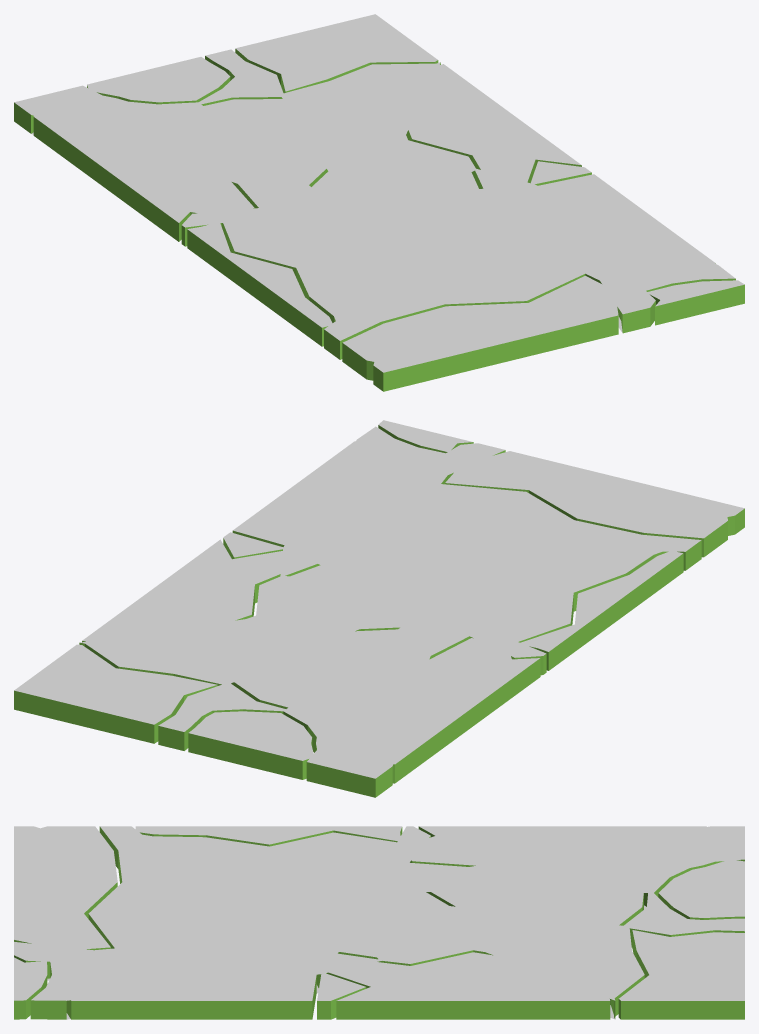
The model's file is Nivel 6 final.fbx.
3 renders of one model, top to bottom at view 1: azimuth 30°, elevation 25°; view 2: azimuth 150°, elevation 25°; view 3: azimuth 270°, elevation 25°, orthographic.
Parts seen in each view (by area): view 1: Plane.001, Plane, Plane.006, Plane.012, Plane.003, Plane.014, Plane.010, Plane.005, Plane.008, Plane.009, Plane.011, Plane.002 (+1 smaller); view 2: Plane.001, Plane, Plane.003, Plane.006, Plane.012, Plane.009, Plane.005, Plane.010, Plane.014, Plane.011, Plane.002, Plane.008 (+1 smaller); view 3: Plane.001, Plane.012, Plane.014, Plane, Plane.003, Plane.010, Plane.011, Plane.006, Plane.009, Plane.005, Plane.008, Plane.002 (+2 smaller).
Part boxes in pixels (bbox=[...]): Plane.001: bbox=[14, 49, 735, 359]; Plane: bbox=[342, 275, 618, 391]; Plane.006: bbox=[33, 101, 254, 241]; Plane.012: bbox=[362, 64, 581, 183]; Plane.003: bbox=[235, 14, 438, 93]; Plane.014: bbox=[523, 174, 715, 284]; Plane.010: bbox=[183, 95, 371, 193]; Plane.005: bbox=[187, 222, 332, 346]; Plane.008: bbox=[313, 227, 438, 300]; Plane.009: bbox=[87, 57, 230, 104]; Plane.011: bbox=[344, 163, 511, 253]; Plane.002: bbox=[646, 280, 744, 325]; Plane.001: bbox=[79, 426, 701, 797]; Plane: bbox=[445, 451, 744, 557]; Plane.003: bbox=[14, 644, 217, 743]; Plane.006: bbox=[338, 638, 540, 783]; Plane.012: bbox=[82, 539, 290, 657]; Plane.009: bbox=[188, 711, 314, 779]; Plane.005: bbox=[517, 551, 683, 670]; Plane.010: bbox=[210, 629, 439, 708]; Plane.014: bbox=[232, 441, 441, 546]; Plane.011: bbox=[291, 534, 481, 581]; Plane.002: bbox=[378, 420, 473, 453]; Plane.008: bbox=[494, 526, 592, 598]; Plane.001: bbox=[14, 826, 744, 1019]; Plane.012: bbox=[327, 952, 610, 1019]; Plane.014: bbox=[63, 952, 316, 1019]; Plane: bbox=[14, 826, 117, 950]; Plane.003: bbox=[618, 930, 744, 1019]; Plane.010: bbox=[426, 870, 643, 950]; Plane.011: bbox=[214, 890, 416, 959]; Plane.006: bbox=[402, 826, 717, 866]; Plane.009: bbox=[658, 859, 744, 919]; Plane.005: bbox=[135, 826, 402, 846]; Plane.008: bbox=[150, 847, 317, 893]; Plane.002: bbox=[14, 957, 47, 1019].
Size of the model in its own units: 179 by 9 by 316.
